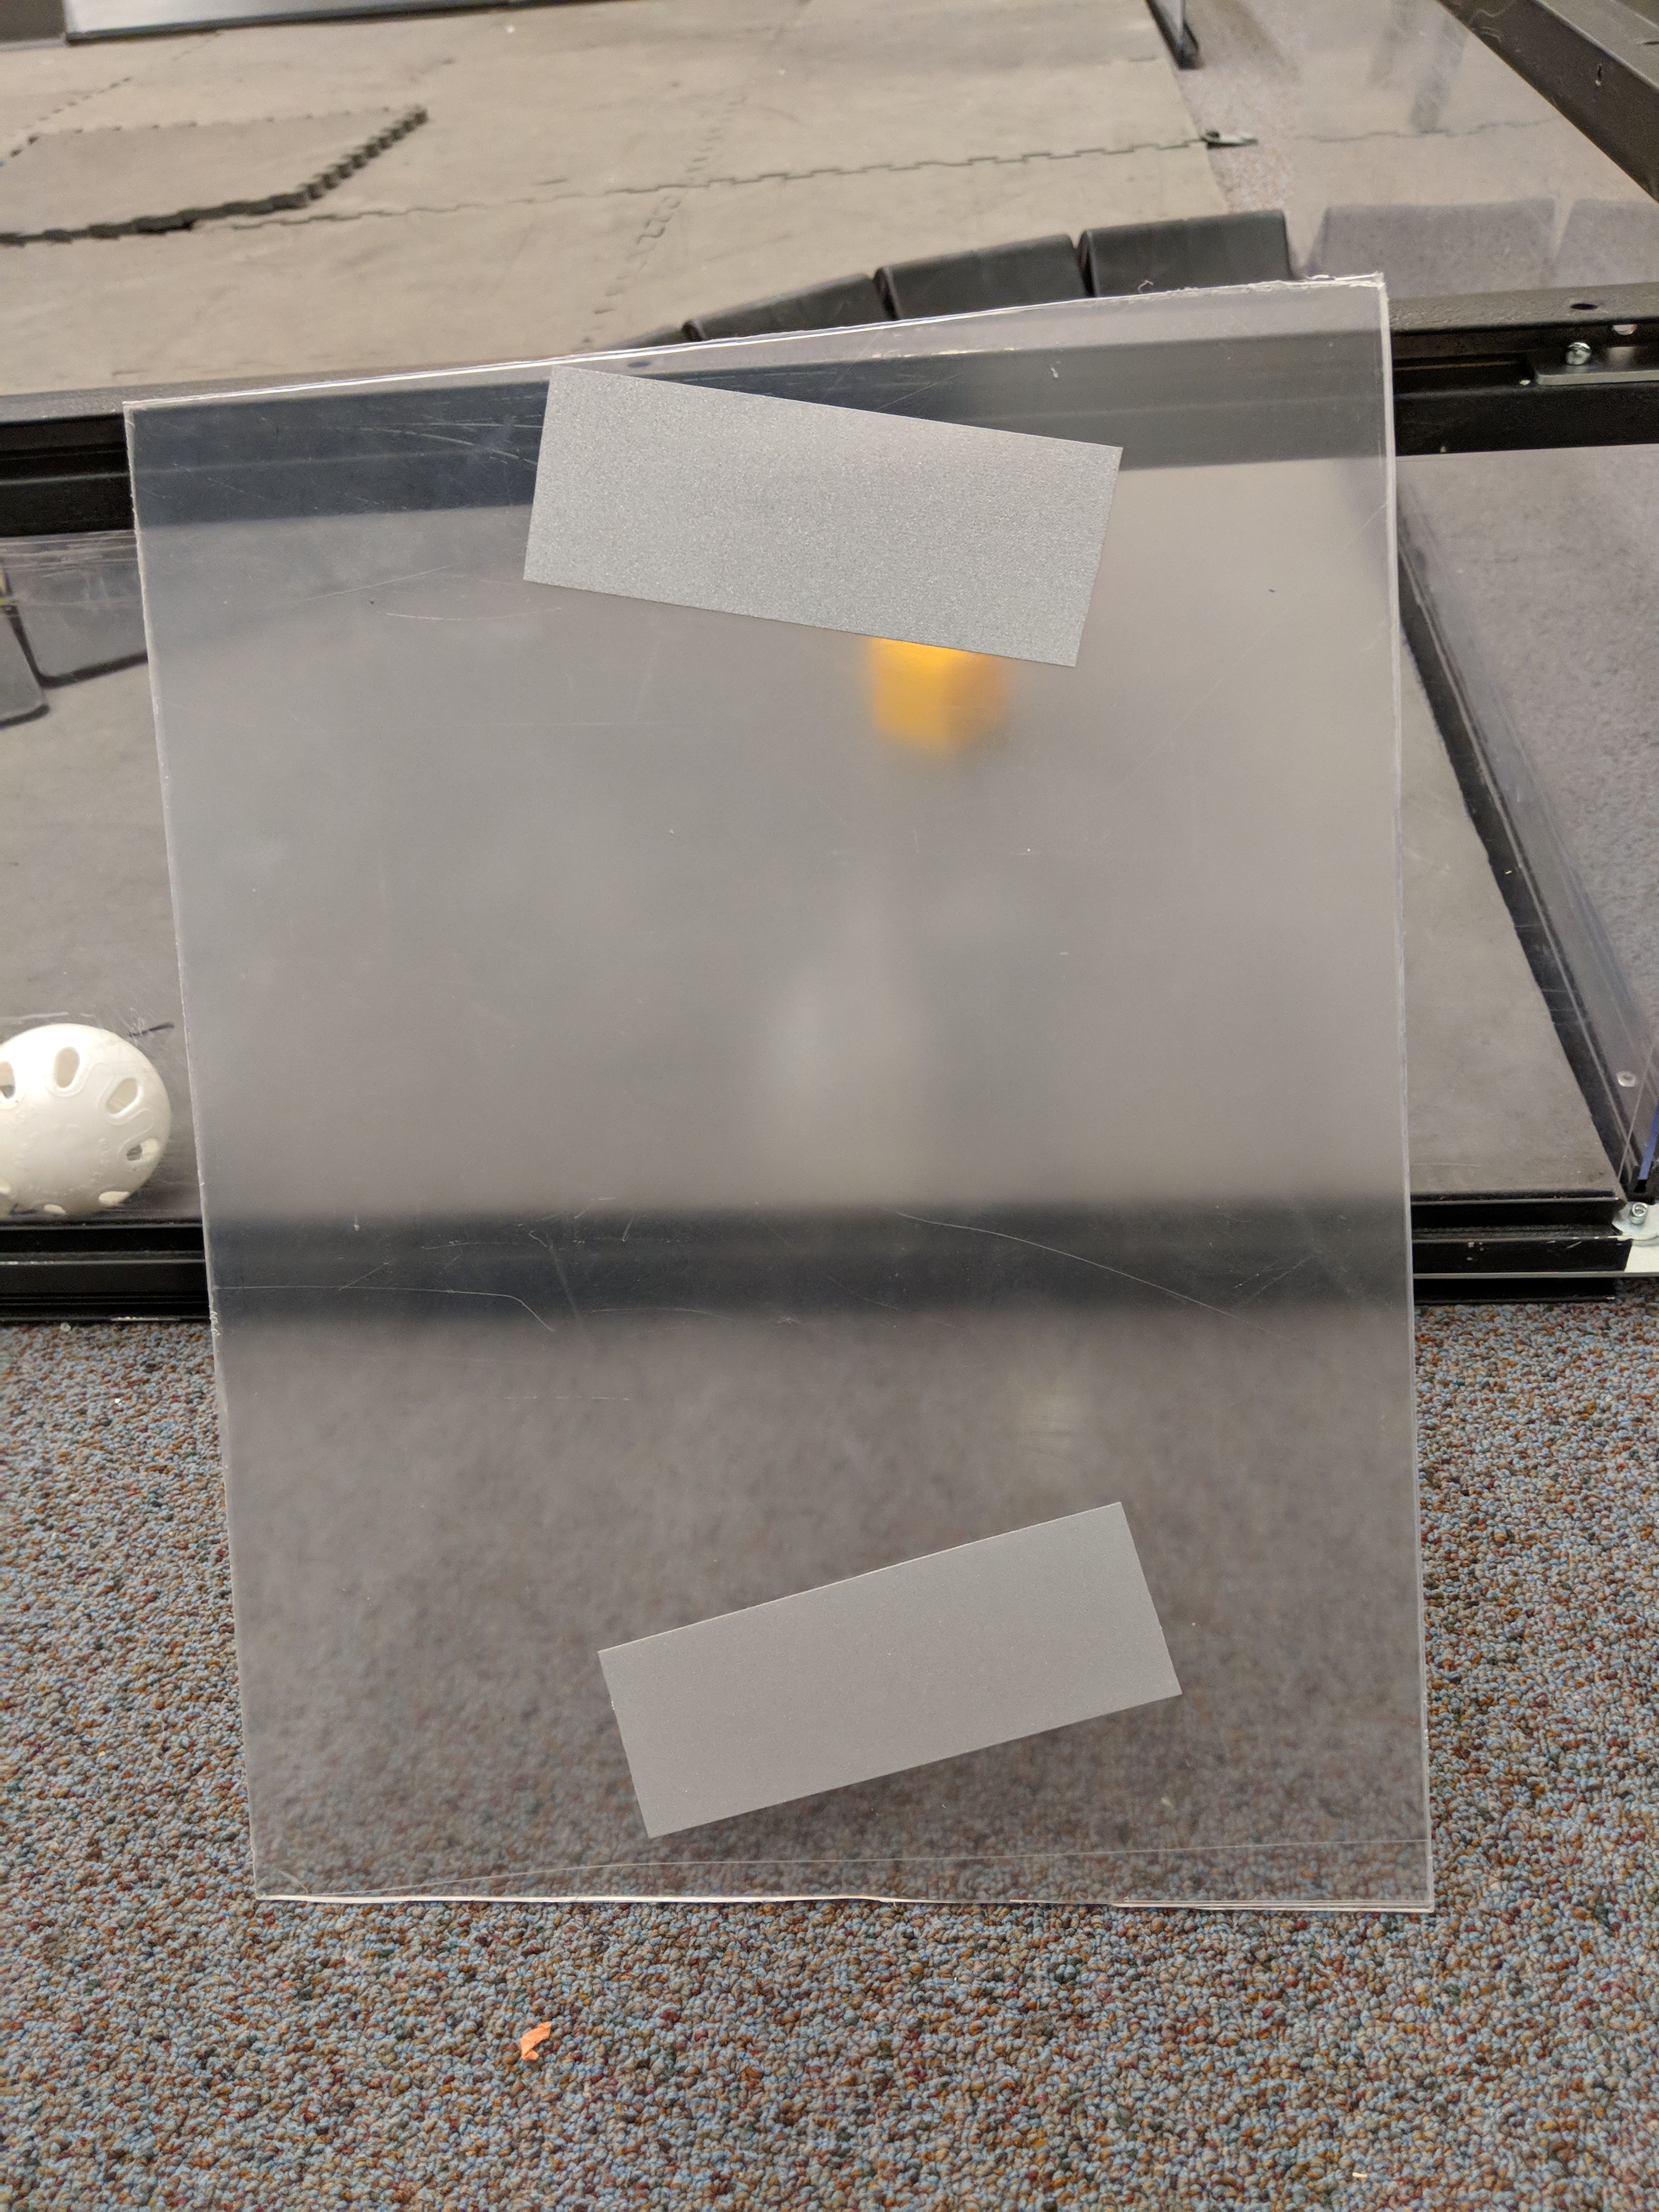vision_target: (505, 352, 1218, 1855)
